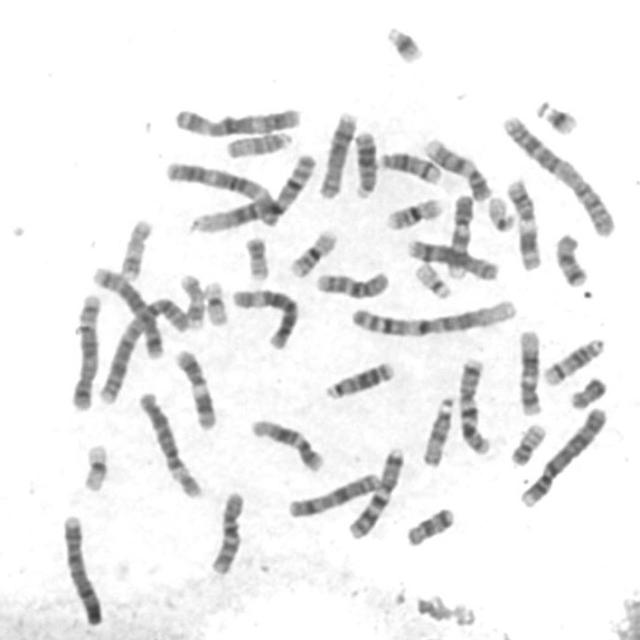A1: (188, 147, 321, 236), (346, 291, 522, 339)
A2: (499, 108, 620, 238), (94, 292, 193, 405)
A3: (163, 154, 284, 228), (170, 98, 305, 139)
B4: (516, 400, 612, 509), (58, 508, 107, 628)
B5: (87, 258, 167, 361), (66, 286, 106, 412)
C10: (205, 484, 250, 577), (311, 264, 394, 300)
C11: (171, 342, 220, 432), (503, 172, 546, 272)
C12: (247, 412, 329, 474), (515, 323, 547, 416)
C6: (135, 385, 207, 500), (228, 281, 304, 351)
C7: (344, 441, 408, 541), (454, 352, 495, 456)
C8: (403, 233, 503, 282), (314, 105, 362, 200)
C9: (420, 131, 496, 202), (443, 188, 477, 282)
D13: (322, 354, 398, 401), (350, 123, 381, 200)
D14: (540, 332, 608, 388), (374, 144, 446, 185)
D15: (419, 390, 459, 468), (222, 124, 296, 160)
E16: (286, 222, 342, 279), (382, 191, 448, 231)
E17: (115, 211, 155, 282), (175, 267, 209, 330)
E18: (402, 500, 458, 548), (552, 226, 592, 289)
F19: (78, 436, 113, 494), (199, 274, 233, 328)
F20: (506, 416, 551, 468), (240, 230, 274, 282)
G21: (532, 93, 584, 136), (382, 17, 428, 65)
G22: (412, 256, 456, 300), (484, 189, 520, 233)
X: (284, 467, 385, 520)
Y: (565, 370, 611, 411)
